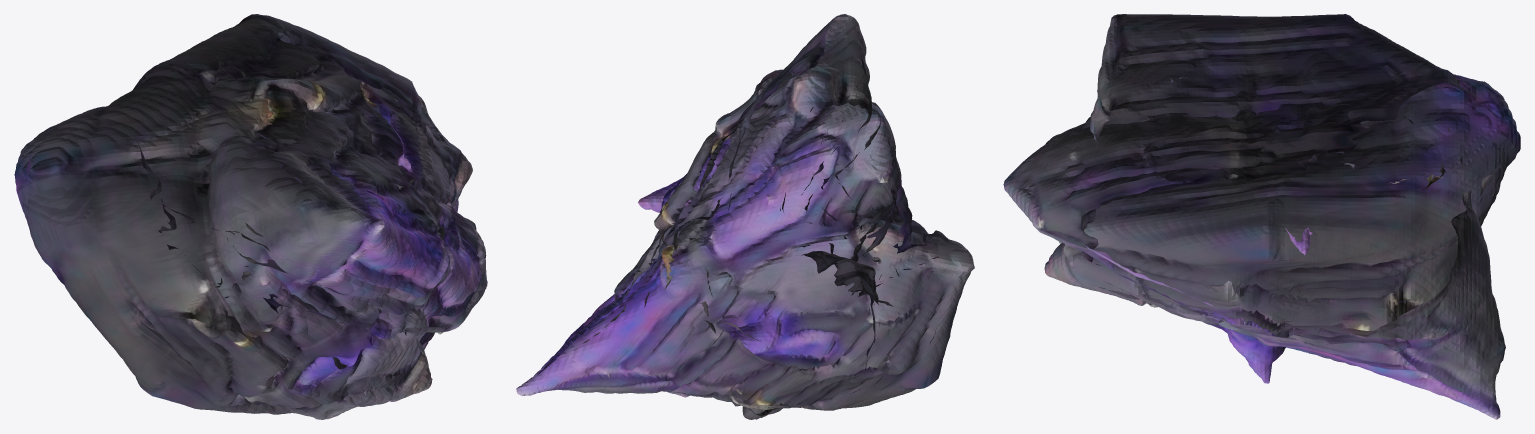
File: knight_shield_rush__ram_forebody__triposr_raw_r256.glb
3 views of the same model, side by side, from view 1: azimuth 30°, elevation 25°; view 2: azimuth 150°, elevation 25°; view 3: azimuth 270°, elevation 25° (orthographic). The views are drawn at different scales.
Visible parts, largest first — view 1: world; view 2: world; view 3: world.
Part boxes in pixels (x1=…): world: x1=14, y1=14, x2=487, y2=419; world: x1=516, y1=14, x2=974, y2=419; world: x1=1003, y1=14, x2=1520, y2=419.
Size of the model in its own units: 0.7016 by 0.625 by 0.8672.
